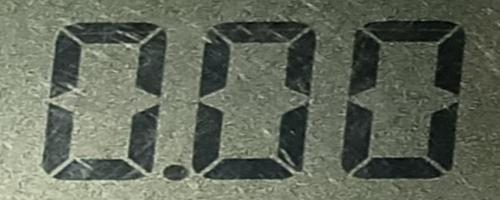.: (163, 162, 191, 184)
